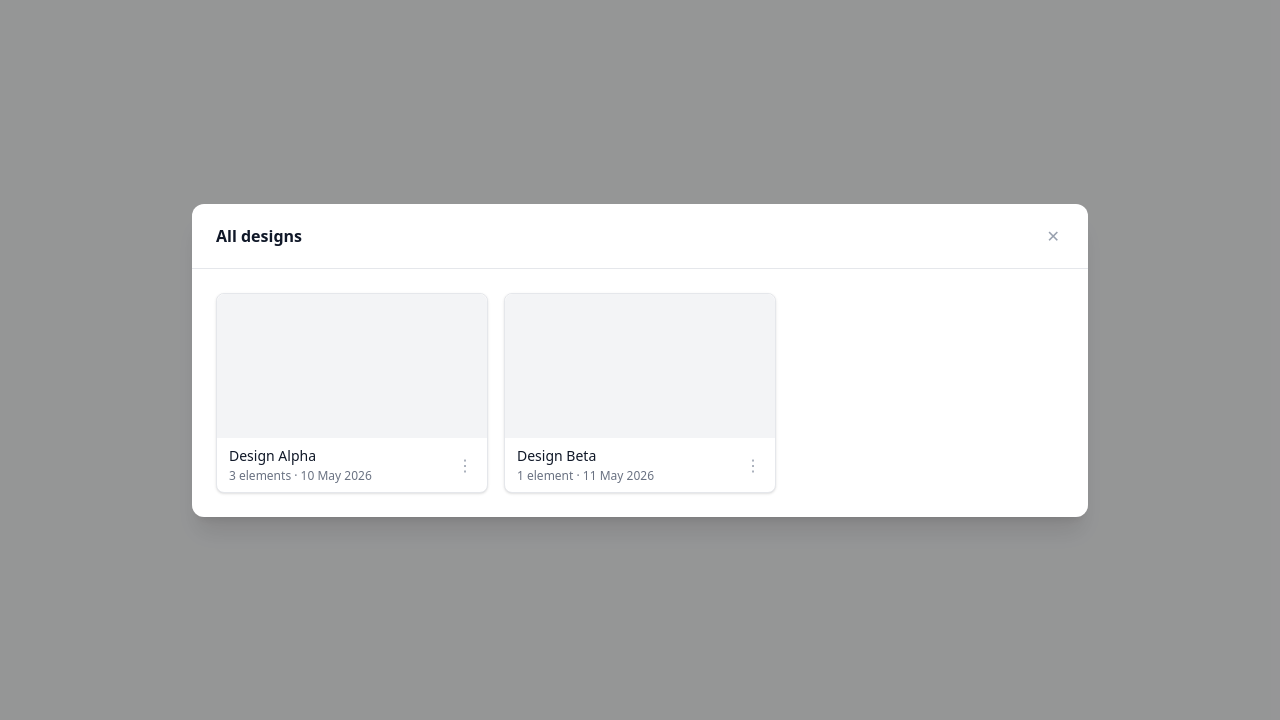
Test: AC3 — dropdown in modal › shows the Rename option when ⋮ is clicked on a card
What coordinates should you click on to do the following:
click the button named "project options"
I would click on:
 (465, 464)
Its box is [455, 446, 475, 484].
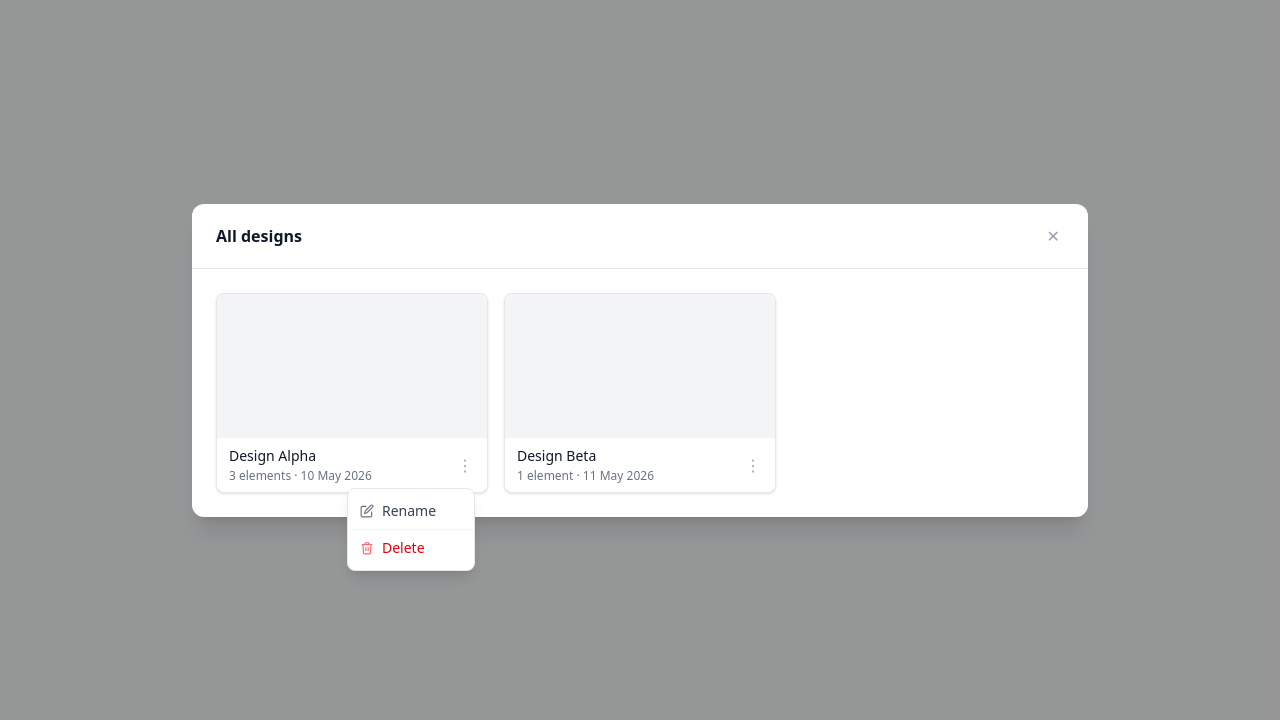
Now the button "Rename" is shown, box [348, 492, 474, 528]
